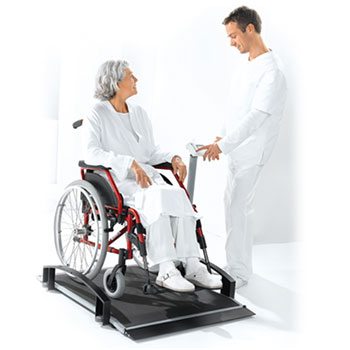wheelchair: (53, 59, 222, 298)
